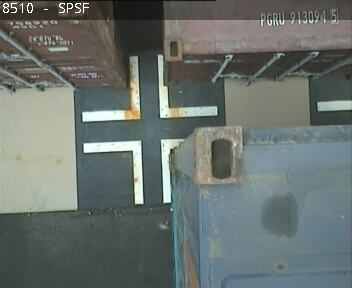groundmarker_1: (82, 54, 217, 123), (84, 135, 218, 204)
